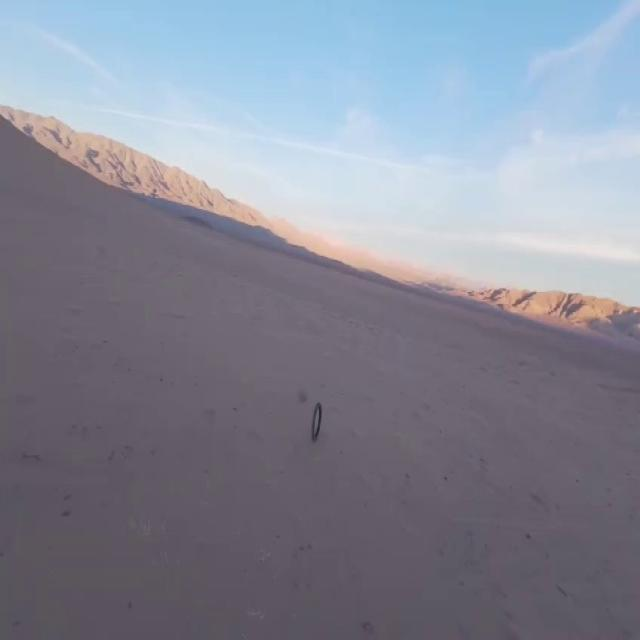Tire: (311, 403, 322, 441)
